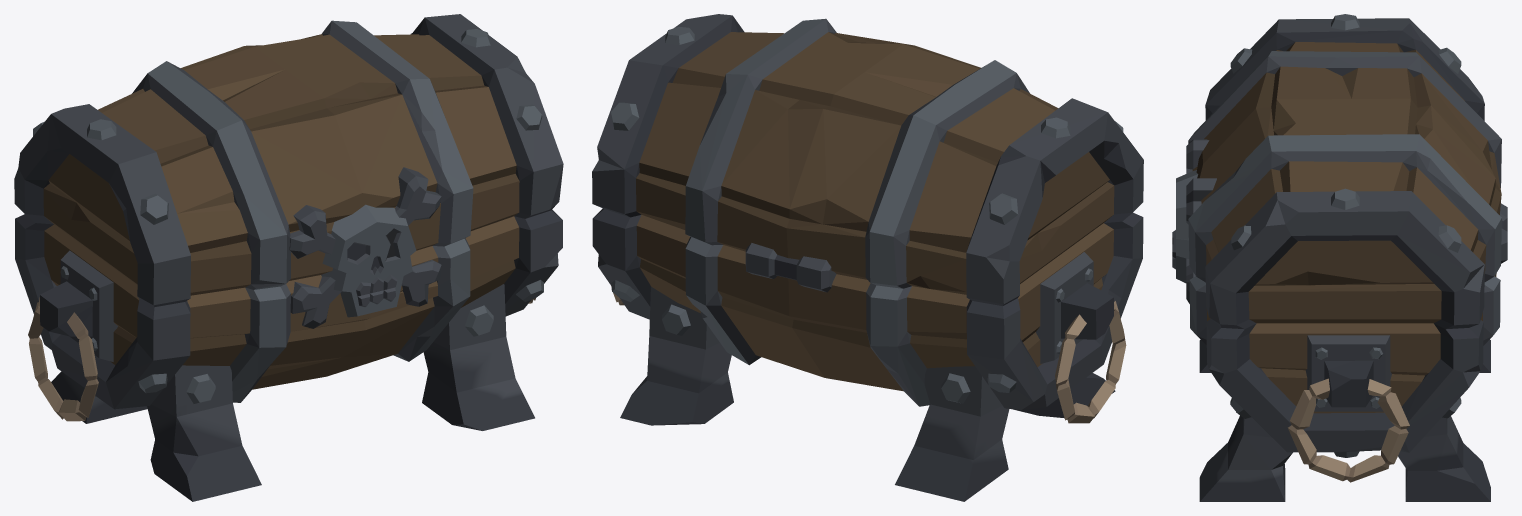
File: SM_Prop_Treasure_Chest_06.fbx
3 renders of one model, left to right at view 1: azimuth 30°, elevation 25°; view 2: azimuth 150°, elevation 25°; view 3: azimuth 270°, elevation 25°, orthographic. The views are drawn at different scales.
Visible parts, largest first — view 1: SM_Prop_Treasure_Chest_06_Lid, SM_Prop_Treasure_Chest_06; view 2: SM_Prop_Treasure_Chest_06_Lid, SM_Prop_Treasure_Chest_06; view 3: SM_Prop_Treasure_Chest_06_Lid, SM_Prop_Treasure_Chest_06.
Boxes of the visible parts, x1,y1,x2,y2 form: SM_Prop_Treasure_Chest_06_Lid: [14, 14, 563, 328]; SM_Prop_Treasure_Chest_06: [15, 209, 562, 501]; SM_Prop_Treasure_Chest_06_Lid: [592, 14, 1143, 305]; SM_Prop_Treasure_Chest_06: [592, 208, 1143, 501]; SM_Prop_Treasure_Chest_06_Lid: [1172, 14, 1501, 329]; SM_Prop_Treasure_Chest_06: [1189, 203, 1507, 501].
Size of the model in its own units: 99.08 by 66.76 by 62.35.
